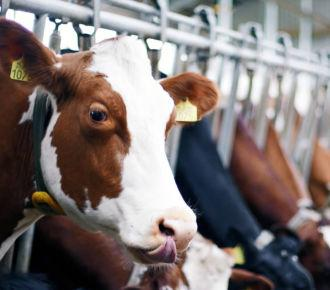muzzles: (125, 200, 200, 270)
